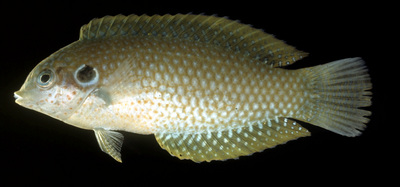fish: (13, 14, 373, 163)
